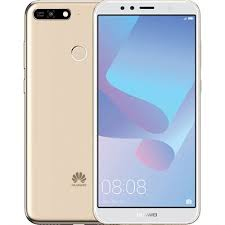huawei: (89, 1, 201, 224), (21, 1, 95, 223)
